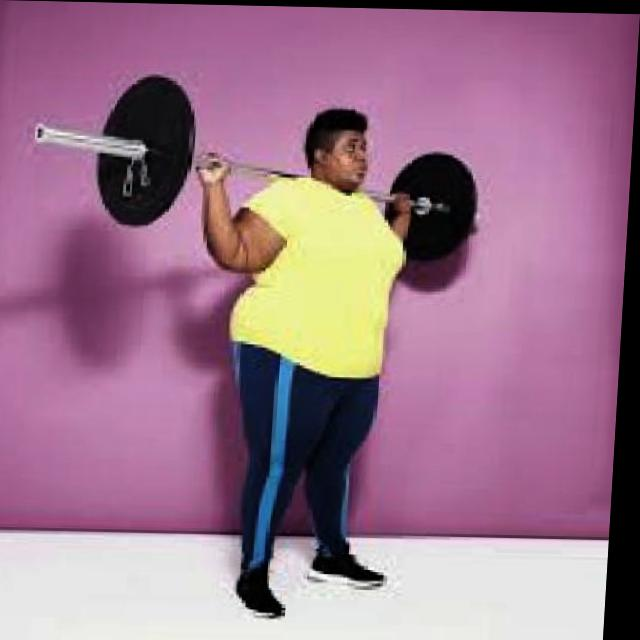barbell: (27, 67, 210, 234)
